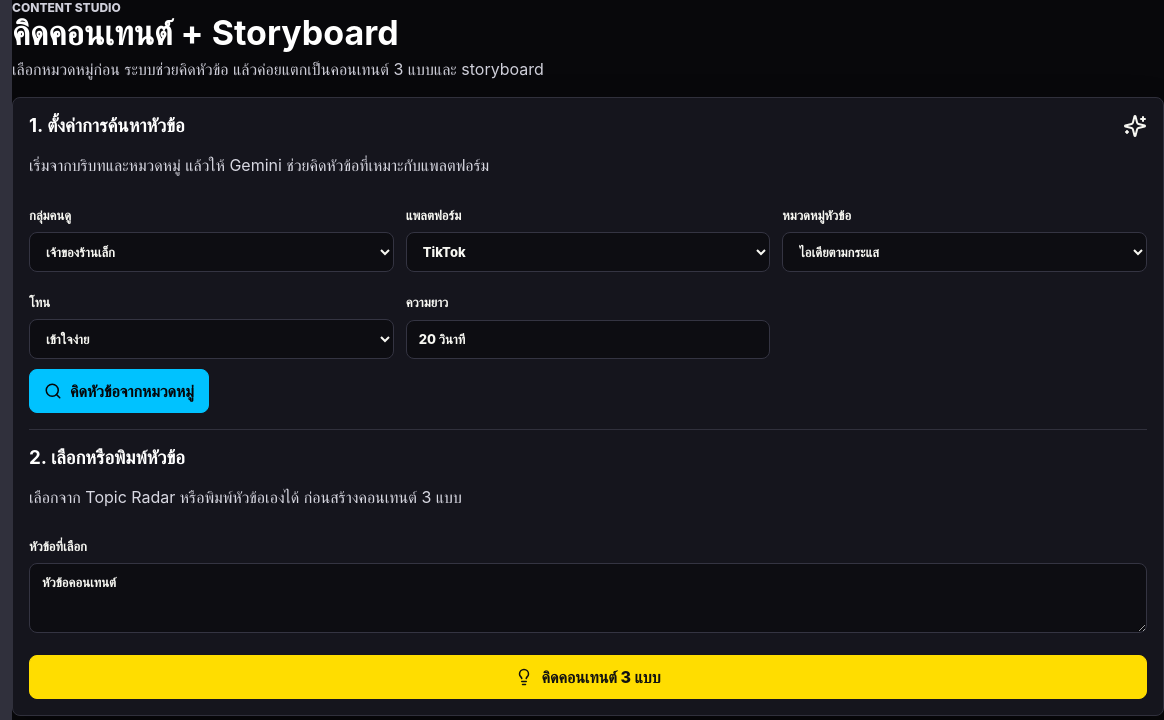
Scenario: ContentStudio › uses the Gemini API content pack when the local API returns one
The image size is (1164, 720).
Replace the text in the text box labelled "หัวข้อที่เลือก" with "ร้านเล็กใช้ AI ตอบลูกค้าเร็วขึ้น": (588, 598) [29,563,1147,633]
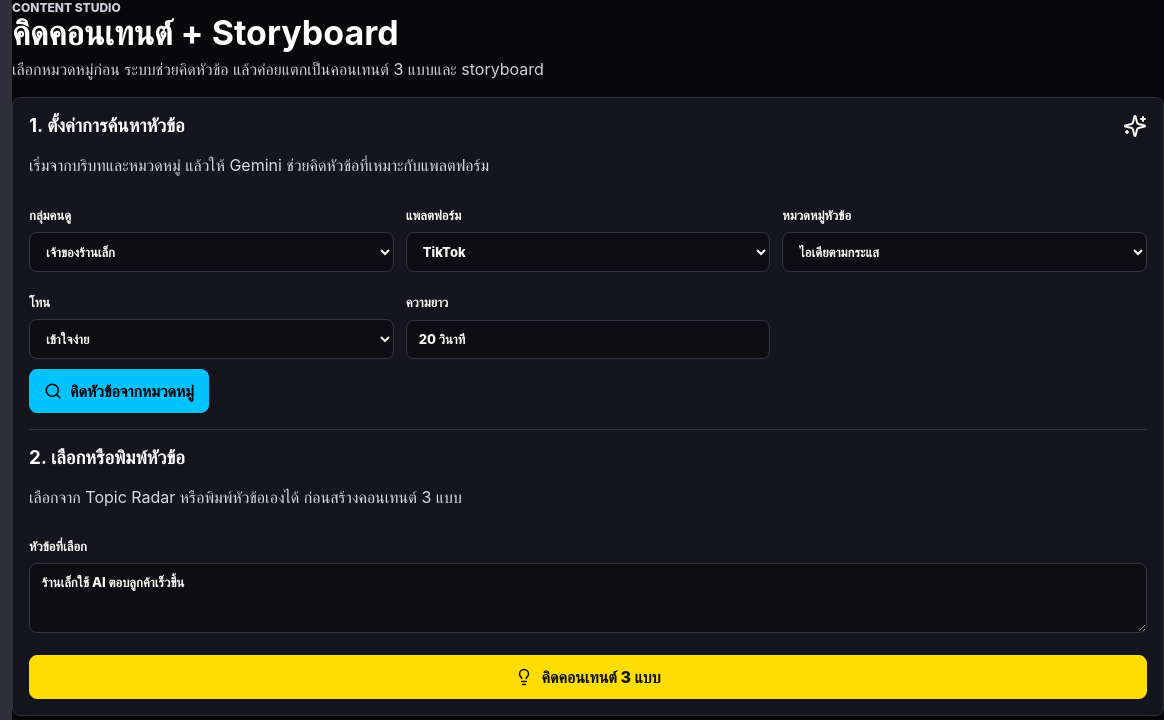
Select "แม่ค้าออนไลน์" in the dropdown labelled "กลุ่มคนดู": (211, 252) [29,232,394,272]
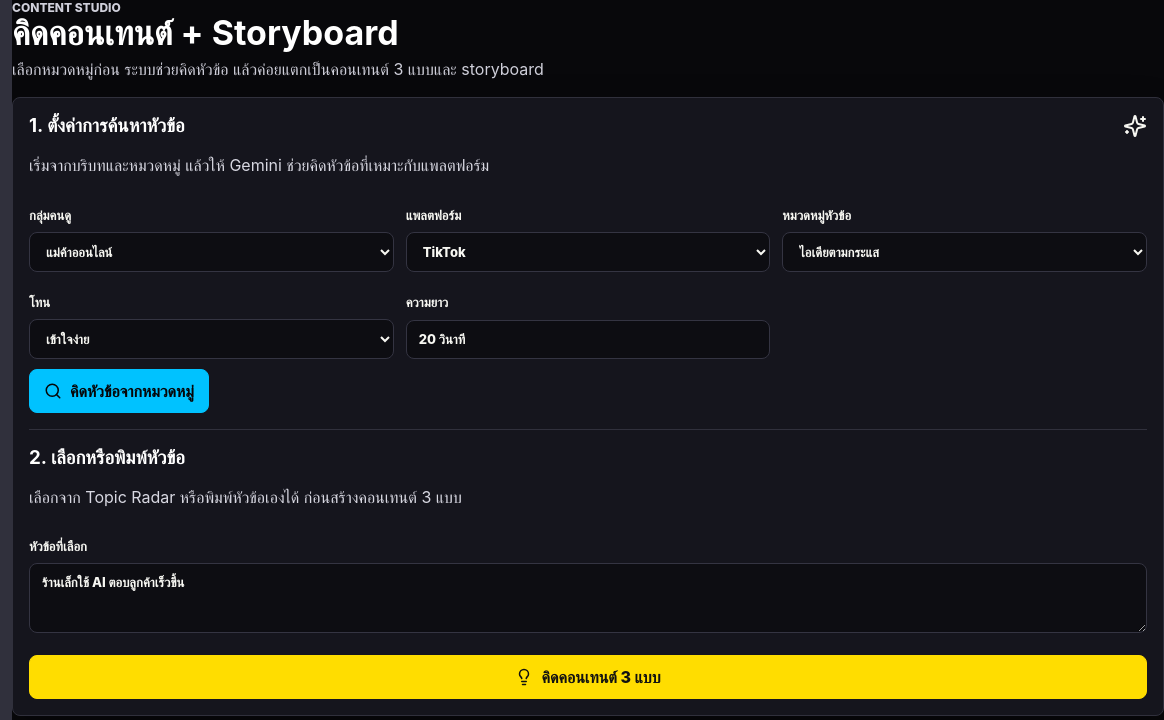
Select "Facebook Reels" in the dropdown labelled "แพลตฟอร์ม": (588, 252) [406,232,770,272]
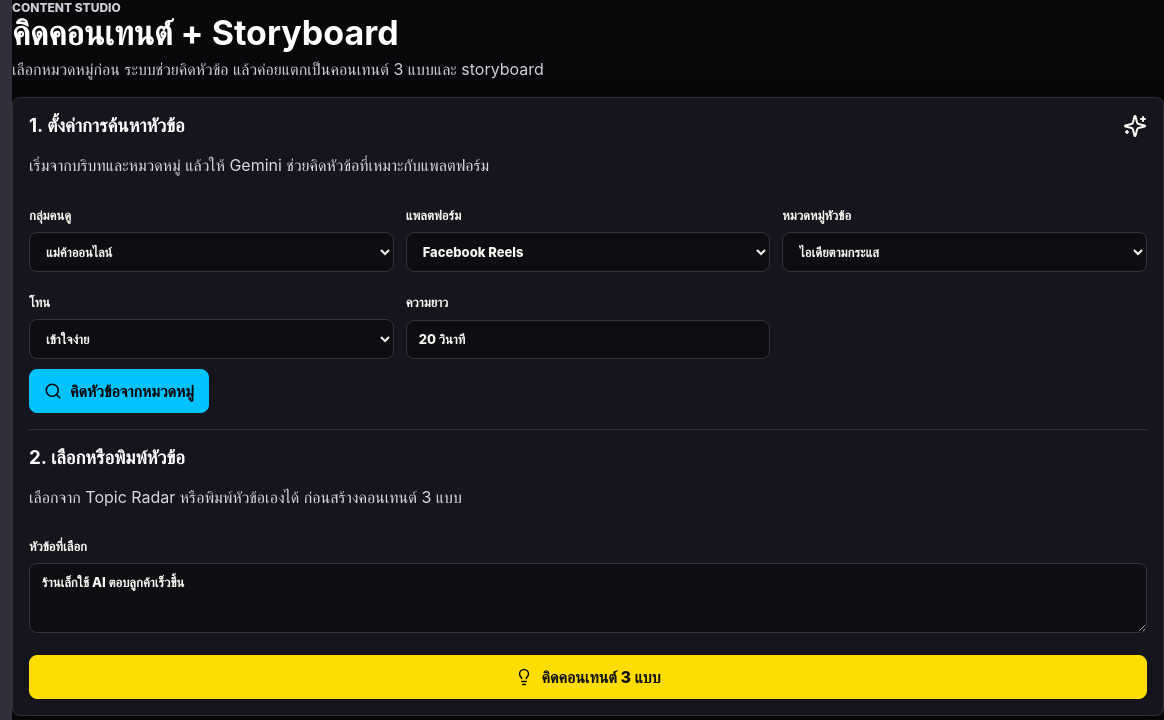
Select "สอนแบบจับมือทำ" in the dropdown labelled "โทน": (211, 340) [29,320,394,360]
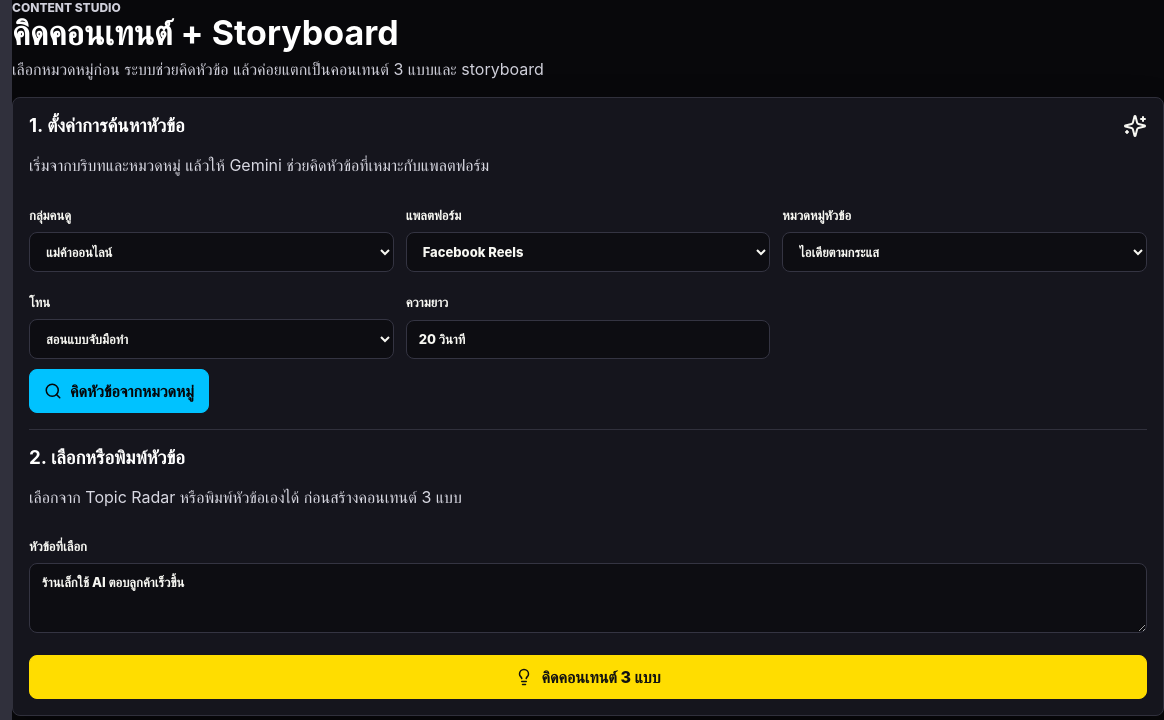
Click the button "คิดคอนเทนต์ 3 แบบ": (588, 677) [29,655,1147,699]
(page scrolled)
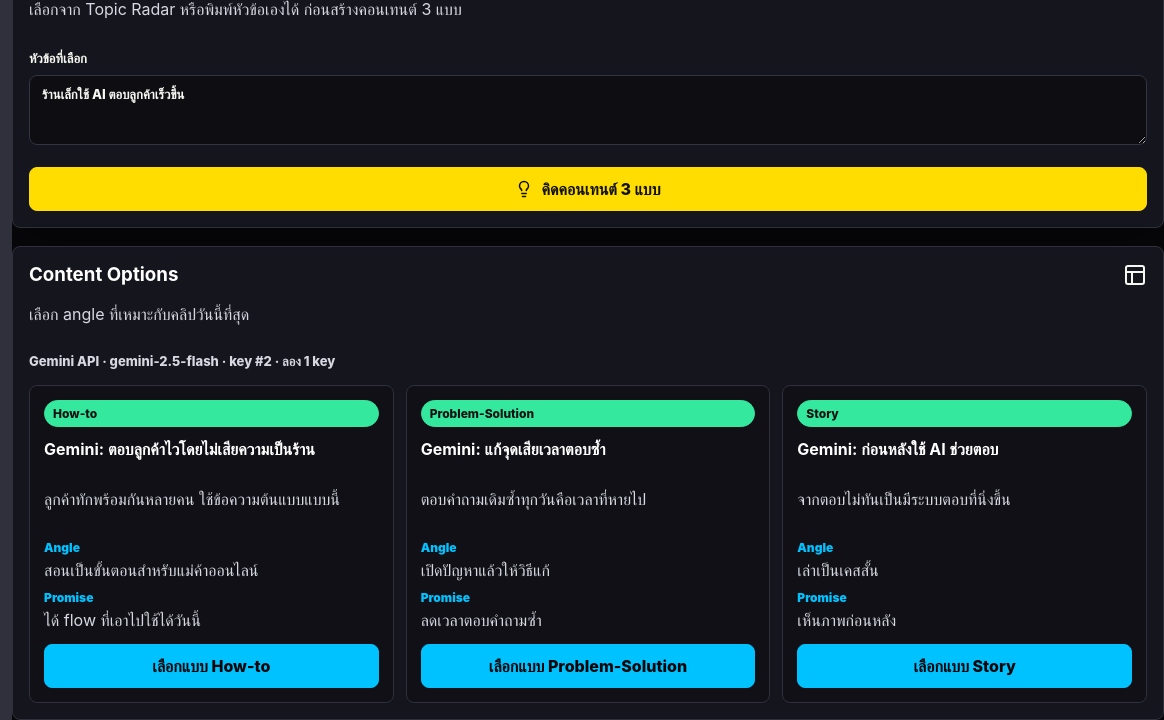
Check: the heading "Gemini: ตอบลูกค้าไวโดยไม่เสียความเป็นร้าน" is shown, box [44,439,315,459]
Check: the text "Gemini API" is shown, box [29,353,99,369]
Check: the text "key #2" is shown, box [219,353,272,369]
Click the button "เลือกแบบ How-to": (211, 666) [44,644,379,688]
(page scrolled)
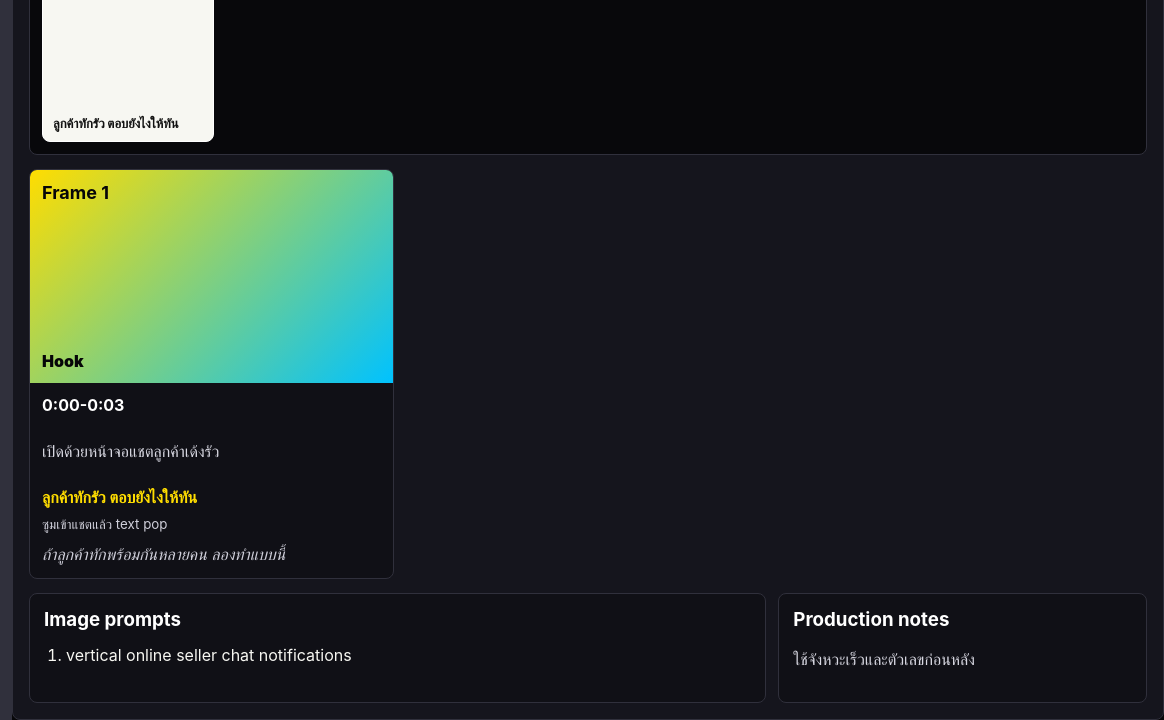
Check: the 1st text "ลูกค้าทักรัว ตอบยังไงให้ทัน" is shown, box [53,115,179,131]
Check: the text "ใช้จังหวะเร็วและตัวเลขก่อนหลัง" is shown, box [793,649,975,669]
